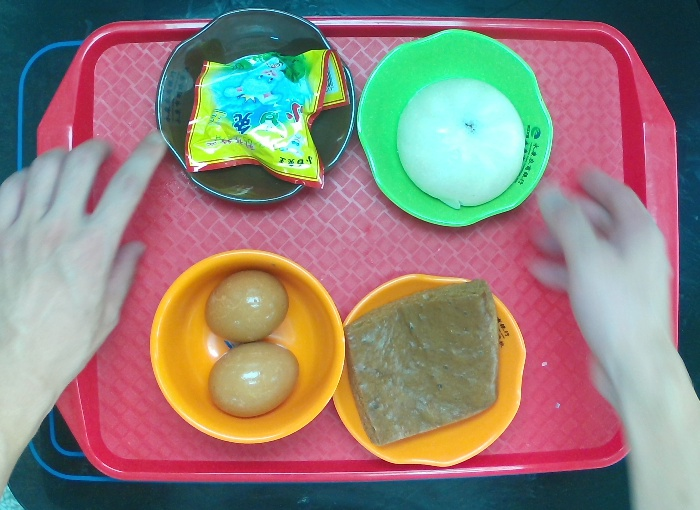YKMZ-Ju_Se_Ao_Bian_Wan: (331, 269, 529, 470)
YKMZ-Ju_Se_Yuan_Wan: (147, 247, 347, 447)
YKMZ-Ka_Fei_Ao_Bian_Wan: (153, 6, 359, 207)
YKMZ-Lv_Se_Ao_Bian_Wan: (354, 27, 556, 228)
